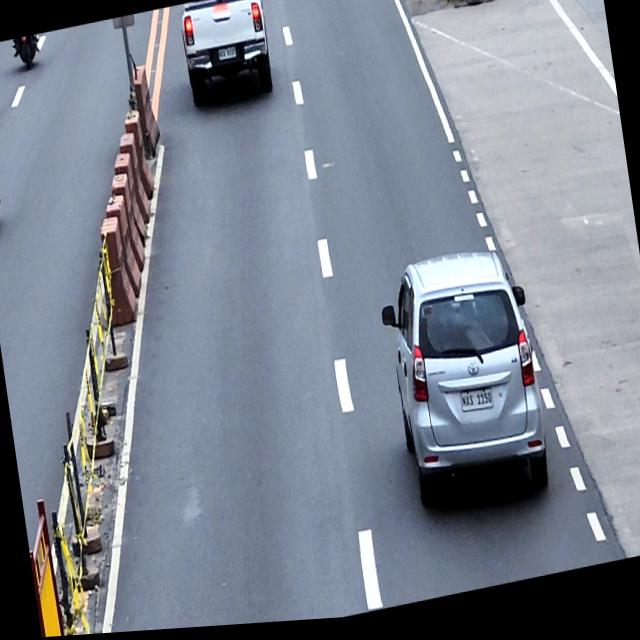Car: (374, 244, 552, 523), (178, 0, 274, 111)
License-Plate: (458, 391, 495, 421), (217, 49, 237, 65)
Motorcycle: (11, 34, 44, 72)
